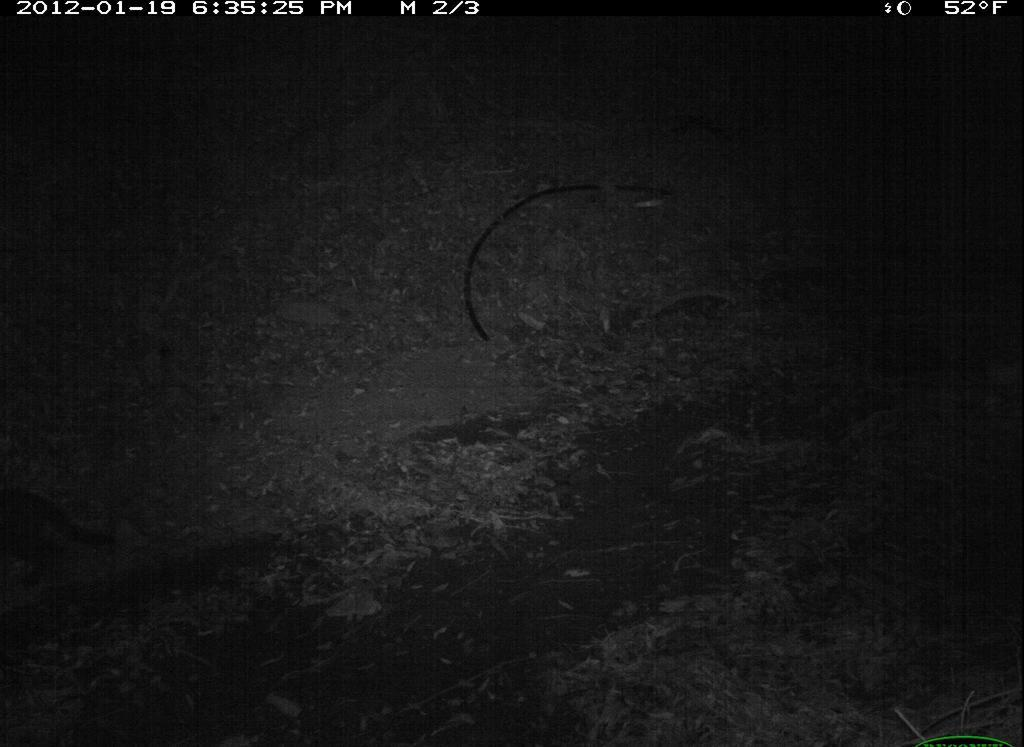cat: (1, 475, 123, 591)
